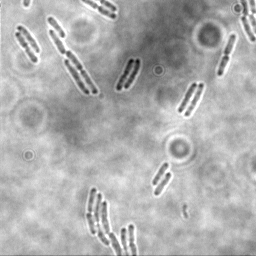Dividing: (64, 51, 99, 96), (215, 33, 237, 77), (80, 0, 118, 21), (184, 82, 206, 118), (14, 32, 38, 64), (115, 57, 135, 93), (123, 58, 142, 90), (153, 172, 173, 196)
Microcolony: (85, 186, 138, 255)
Rod: (63, 59, 91, 96), (16, 25, 41, 54), (177, 82, 197, 114), (48, 29, 67, 56), (239, 15, 256, 43), (151, 162, 169, 186), (47, 17, 66, 39)
